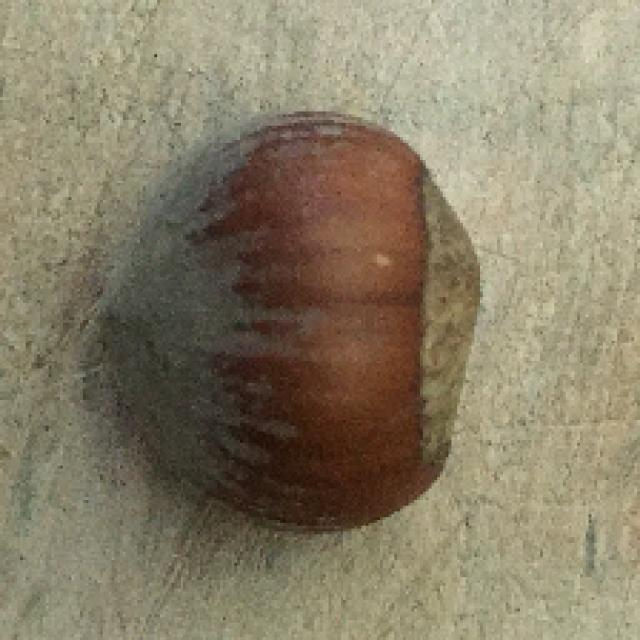qualityHazelnut: (94, 113, 482, 528)
